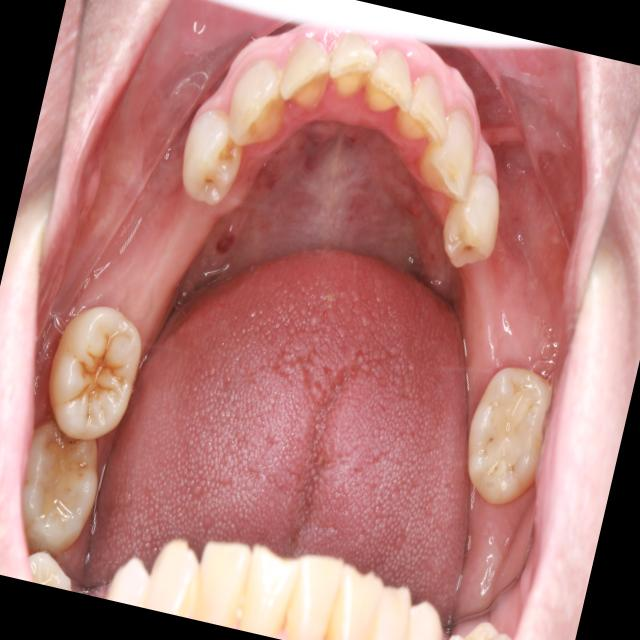tooth: (439, 337, 579, 529), (0, 395, 127, 578), (26, 284, 158, 455), (401, 88, 499, 227), (426, 150, 518, 290), (380, 45, 469, 180), (208, 50, 306, 170), (168, 91, 257, 221), (267, 25, 352, 134), (348, 37, 431, 148), (315, 22, 392, 122)
